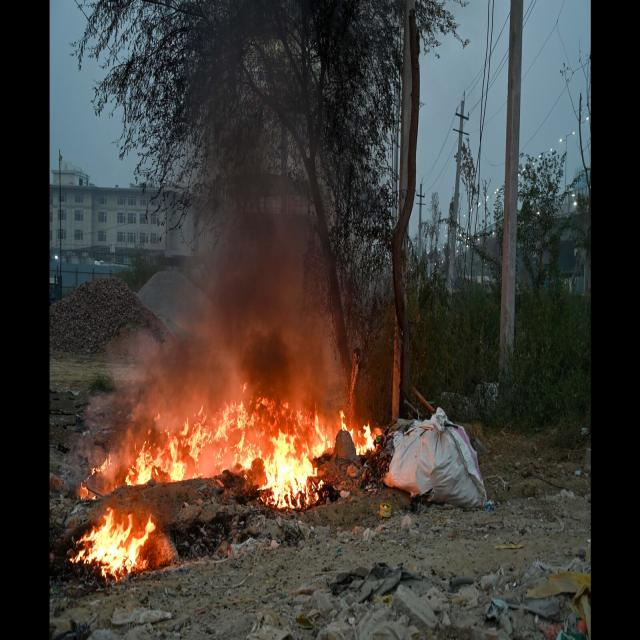fire: (124, 401, 262, 487), (70, 510, 154, 578), (264, 428, 315, 509)
